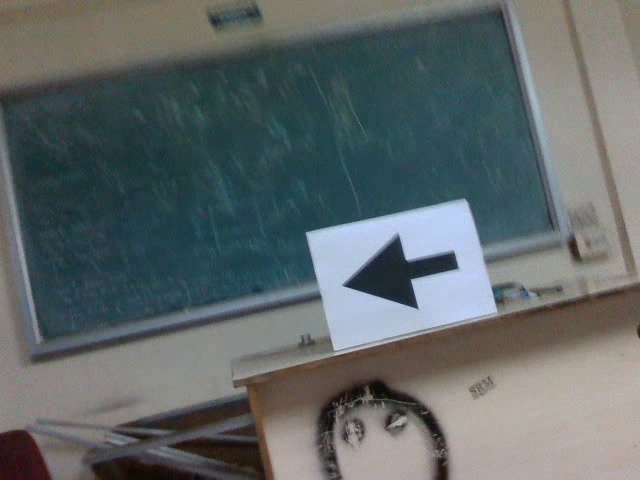Left: (339, 229, 463, 312)
